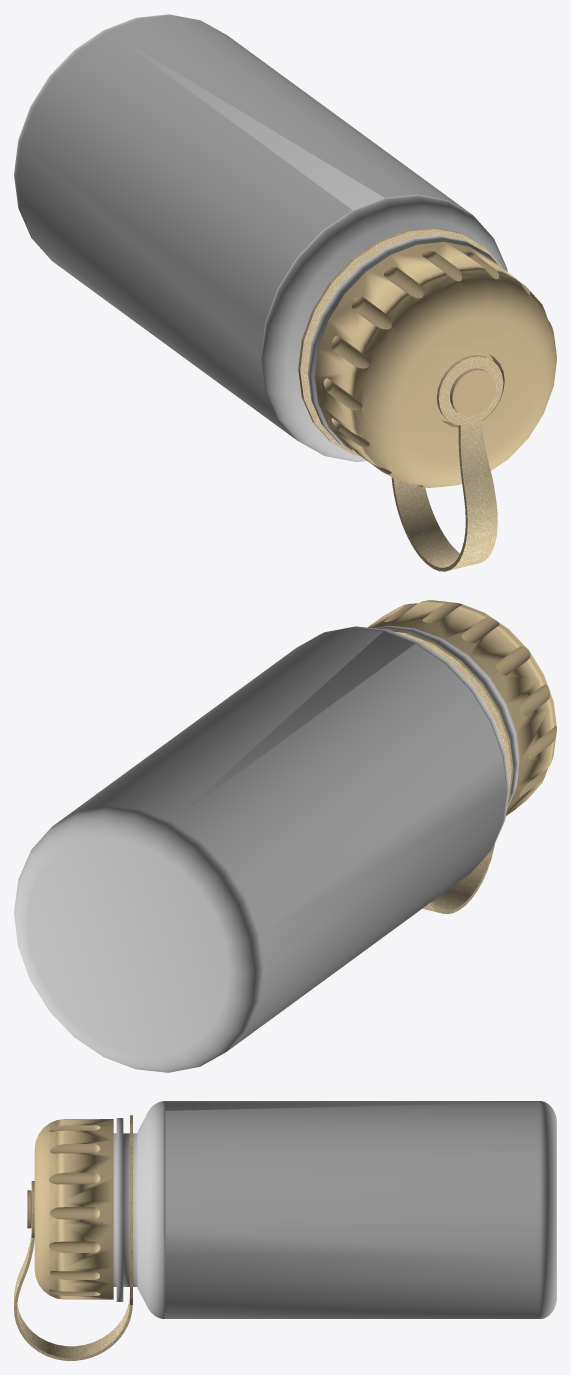
Rendered from model_align.obj.
3 views of the same model, one above another, from view 1: azimuth 30°, elevation 25°; view 2: azimuth 150°, elevation 25°; view 3: azimuth 270°, elevation 25° (orthographic). The views are drawn at different scales.
Visible parts, largest first — view 1: mesh3_mesh3-geometry, mesh1_mesh1-geometry, mesh2_mesh2-geometry; view 2: mesh3_mesh3-geometry, mesh1_mesh1-geometry, mesh2_mesh2-geometry; view 3: mesh3_mesh3-geometry, mesh1_mesh1-geometry, mesh2_mesh2-geometry.
Part boxes in pixels (<box>): mesh3_mesh3-geometry: <box>14,14,507,461</box>; mesh1_mesh1-geometry: <box>315,242,556,487</box>; mesh2_mesh2-geometry: <box>298,227,503,571</box>; mesh3_mesh3-geometry: <box>14,625,519,1072</box>; mesh1_mesh1-geometry: <box>367,600,556,816</box>; mesh2_mesh2-geometry: <box>379,628,513,913</box>; mesh3_mesh3-geometry: <box>113,1101,556,1318</box>; mesh1_mesh1-geometry: <box>27,1119,113,1299</box>; mesh2_mesh2-geometry: <box>14,1115,132,1360</box>.
Bounding box in the file's own units: 0.0529 × 0.0652 × 0.1312.
